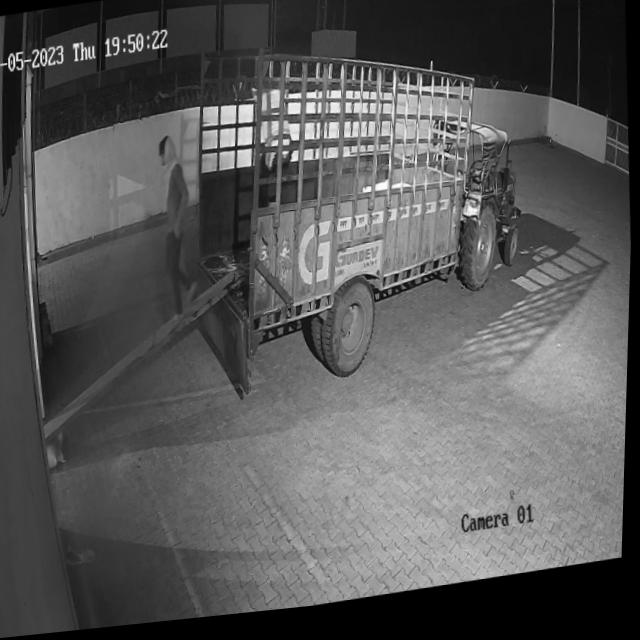sack: (250, 87, 295, 180)
